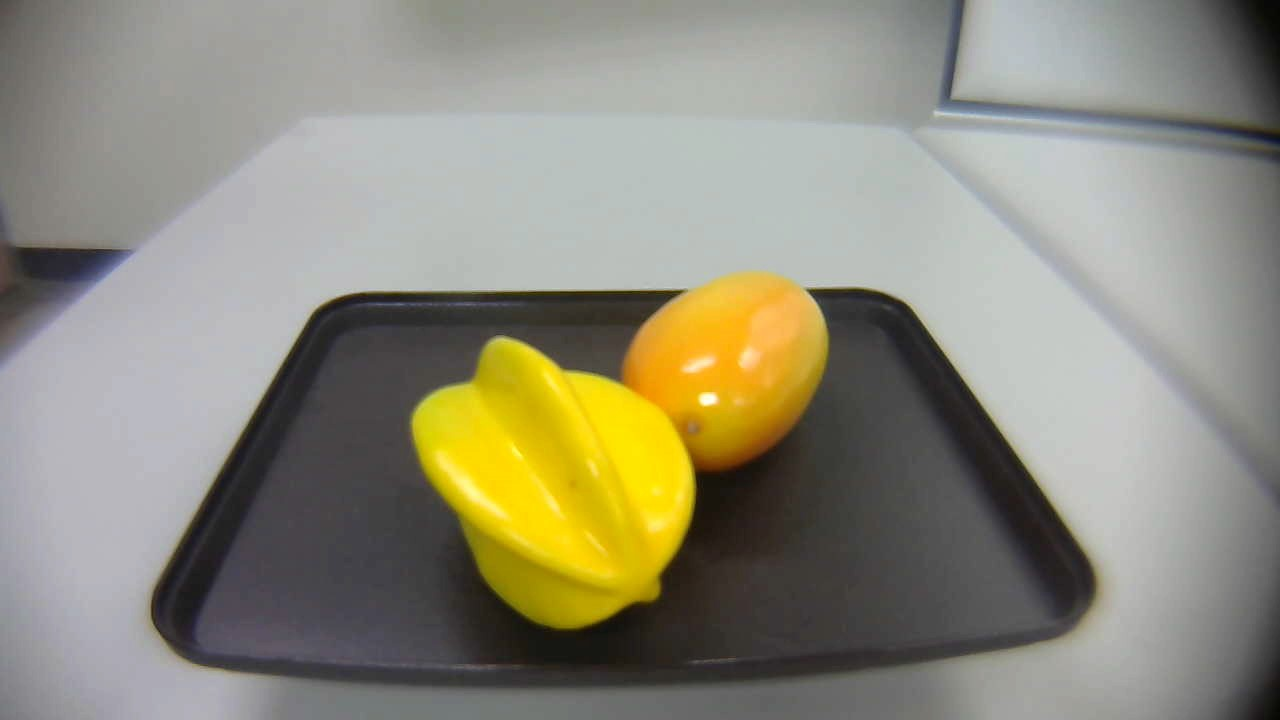star fruit: (407, 322, 701, 640)
yellow mango: (610, 268, 843, 482)
